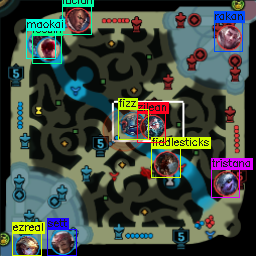ezreal: (15, 234, 40, 256)
fiddlesticks: (153, 151, 180, 176)
fizz: (119, 110, 144, 135)
leesin: (36, 37, 61, 61)
lucian: (66, 7, 92, 32)
maokai: (26, 31, 52, 58)
rakan: (217, 25, 243, 50)
sett: (50, 229, 76, 254)
tristana: (213, 170, 239, 196)
zilean: (141, 115, 166, 138)
